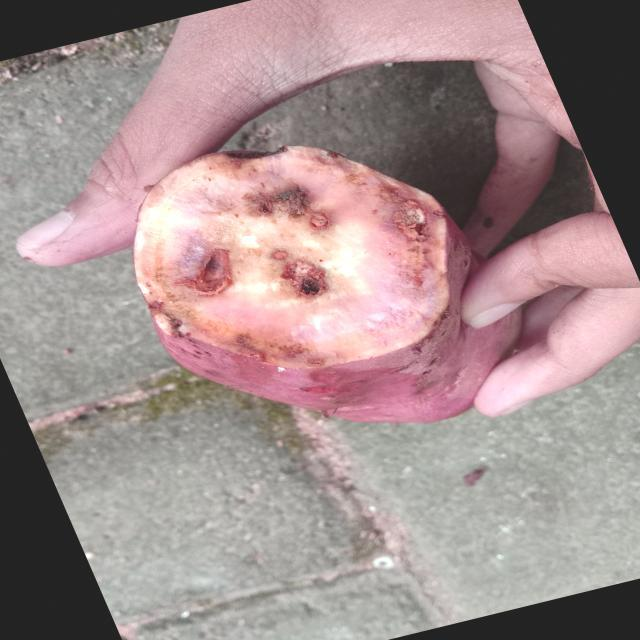Sick Sweet Potato_Tuber Rot: (133, 146, 450, 369)
